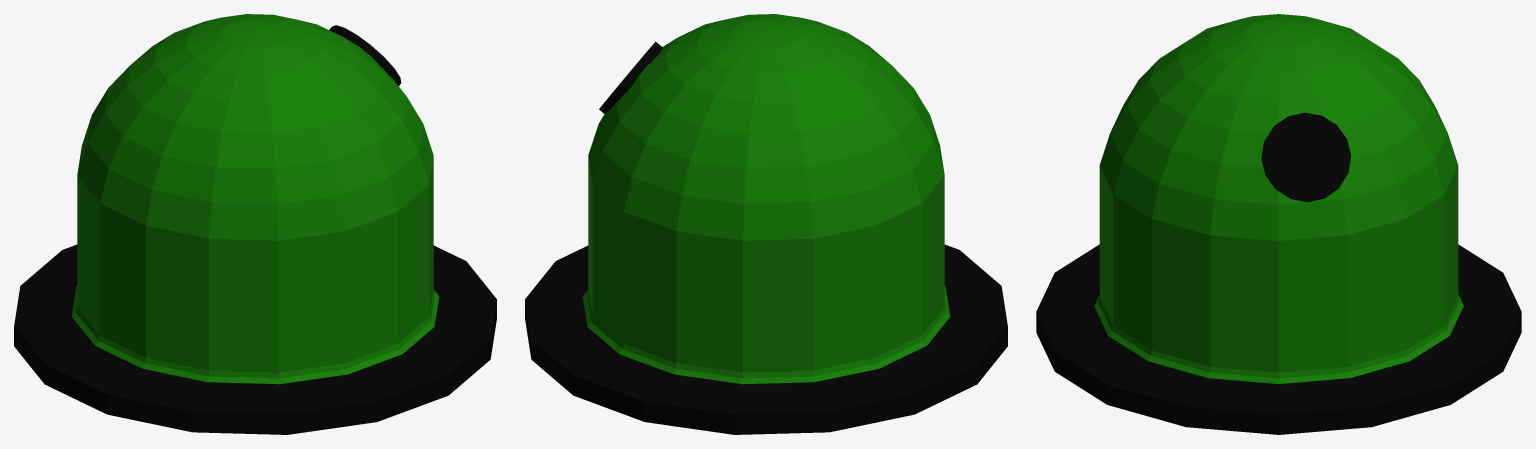
File: TrashCan3.gltf
3 views of the same model, side by side, from view 1: azimuth 30°, elevation 25°; view 2: azimuth 150°, elevation 25°; view 3: azimuth 270°, elevation 25° (orthographic).
Parts seen in each view (by area): view 1: Sphere; view 2: Sphere; view 3: Sphere.
Boxes of the visible parts, box(x1,y1,x2,y2) form: Sphere: box(14, 14, 496, 434); Sphere: box(525, 14, 1007, 434); Sphere: box(1036, 14, 1521, 434).
Size of the model in its own units: 10.62 by 7.29 by 10.62.
